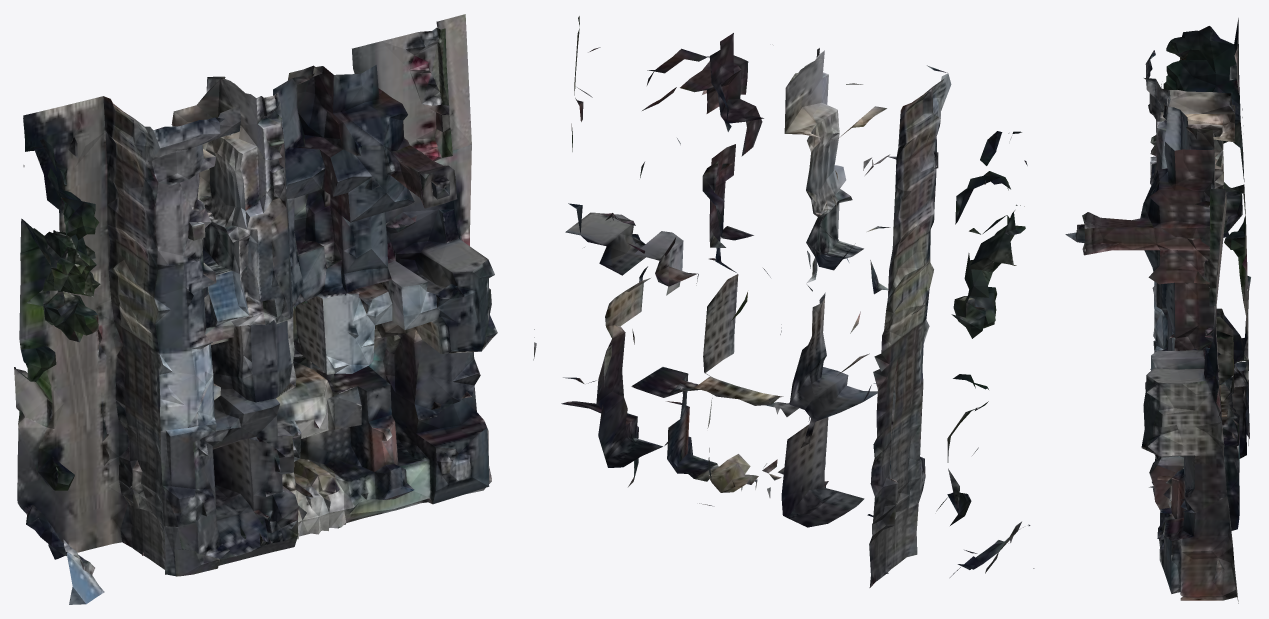
The model's file is Tile_+034_+018_L17_0003.glb.
The picture shows the model from 3 angles, left to right: view 1: azimuth 30°, elevation 25°; view 2: azimuth 150°, elevation 25°; view 3: azimuth 270°, elevation 25°; orthographic projection. The views are drawn at different scales.
Size of the model in its own units: 126 by 126 by 53.83.
1 material, 1 textured.
